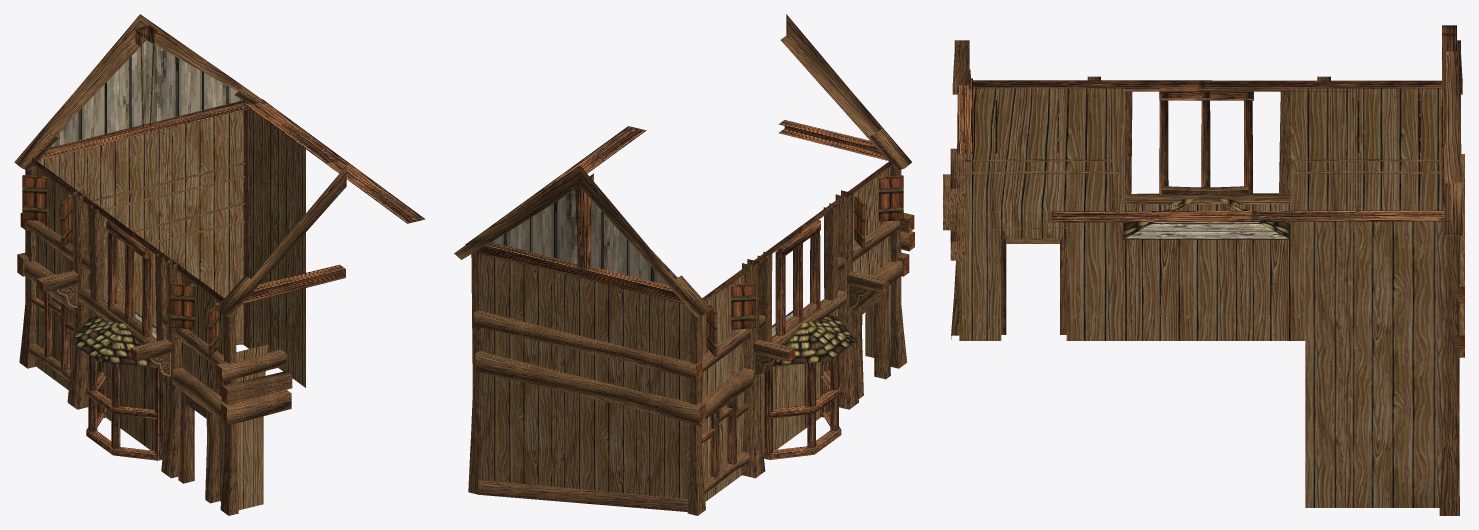
The model's file is LAKETOWN_EXTERIOR_PS_LT_GRANDMA_63534__GX.fbx.
3 views of the same model, side by side, from view 1: azimuth 30°, elevation 25°; view 2: azimuth 150°, elevation 25°; view 3: azimuth 270°, elevation 25° (orthographic). The views are drawn at different scales.
Parts seen in each view (by area): view 1: LAKETOWN_EXTERIOR_PS_LT_GRANDMA_63534__GX; view 2: LAKETOWN_EXTERIOR_PS_LT_GRANDMA_63534__GX; view 3: LAKETOWN_EXTERIOR_PS_LT_GRANDMA_63534__GX.
Part boxes in pixels (<box>): LAKETOWN_EXTERIOR_PS_LT_GRANDMA_63534__GX: <box>14,14,425,515</box>; LAKETOWN_EXTERIOR_PS_LT_GRANDMA_63534__GX: <box>454,14,914,515</box>; LAKETOWN_EXTERIOR_PS_LT_GRANDMA_63534__GX: <box>943,25,1464,515</box>.
Bounding box in the file's own units: 85317 × 101709 × 110480.
10 materials, 10 textured.
